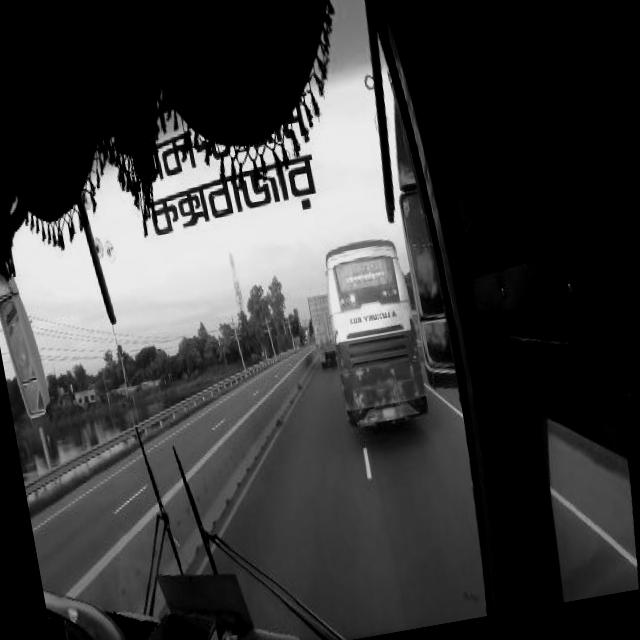bus: (321, 239, 432, 432)
truck: (310, 290, 338, 365)
